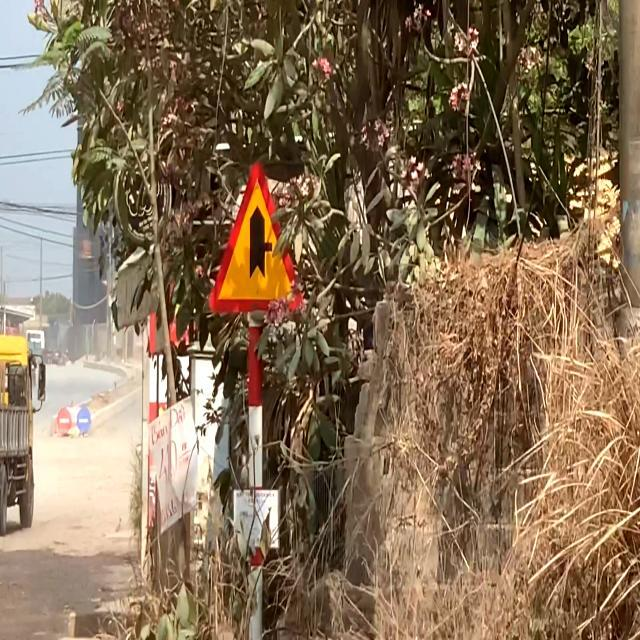W-207b: (208, 163, 304, 312)
